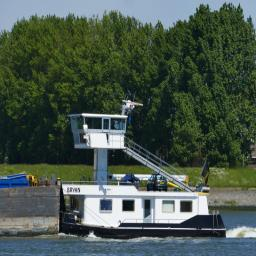tugboat: (27, 100, 240, 245)
